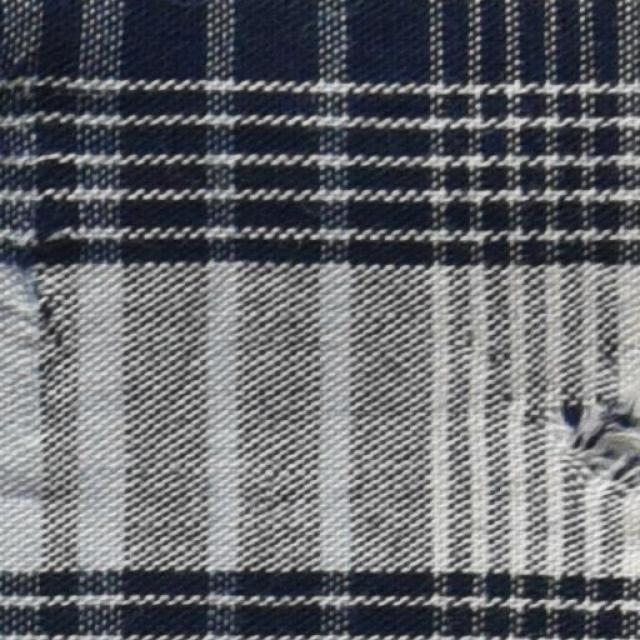Snag: (0, 201, 70, 351), (554, 379, 639, 502)
